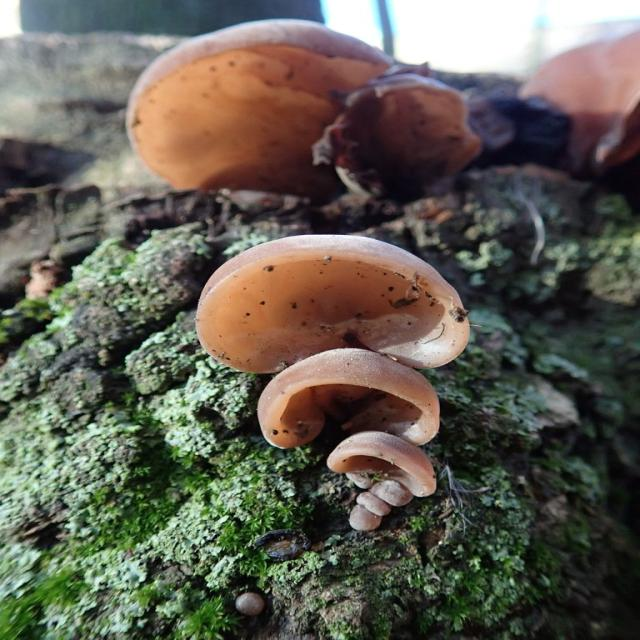Matang: (122, 12, 488, 204), (180, 224, 498, 380), (319, 58, 486, 203), (250, 342, 457, 457), (512, 23, 640, 187), (330, 428, 452, 497)
